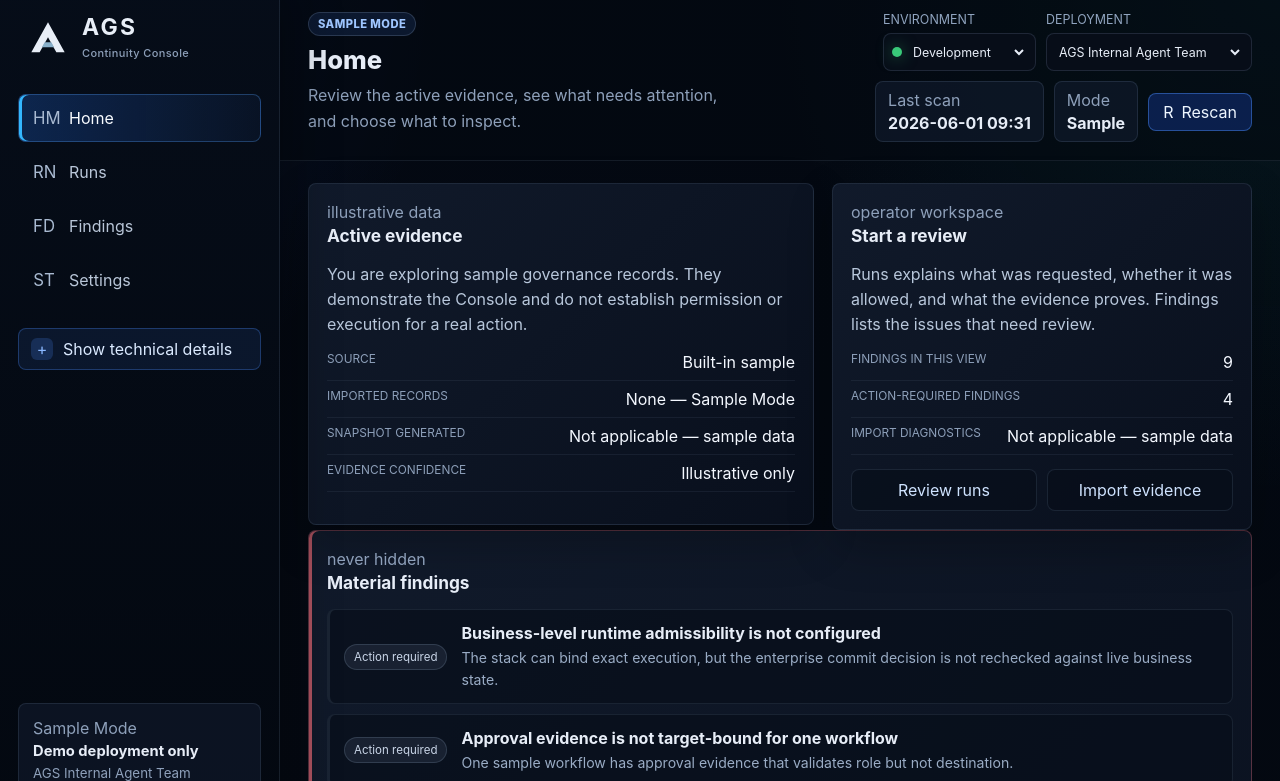
Scenario: Continuity Console operator shell › counts Priority Findings as critical plus high and opens advanced architecture from Home
Click the button "+ Show technical details".
click(140, 349)  # box [18,328,261,370]
(page scrolled)
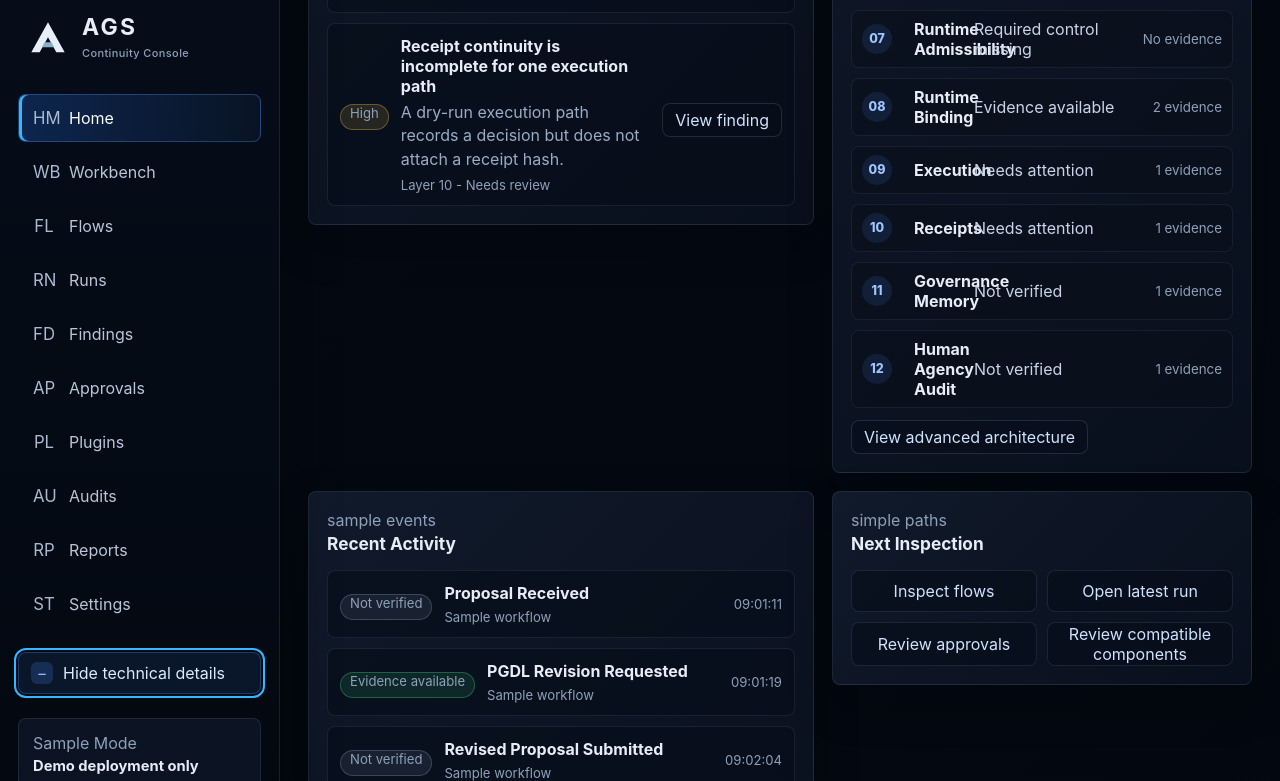
Click the button "View advanced architecture".
click(970, 437)  # box [851,420,1088,454]
(page scrolled)
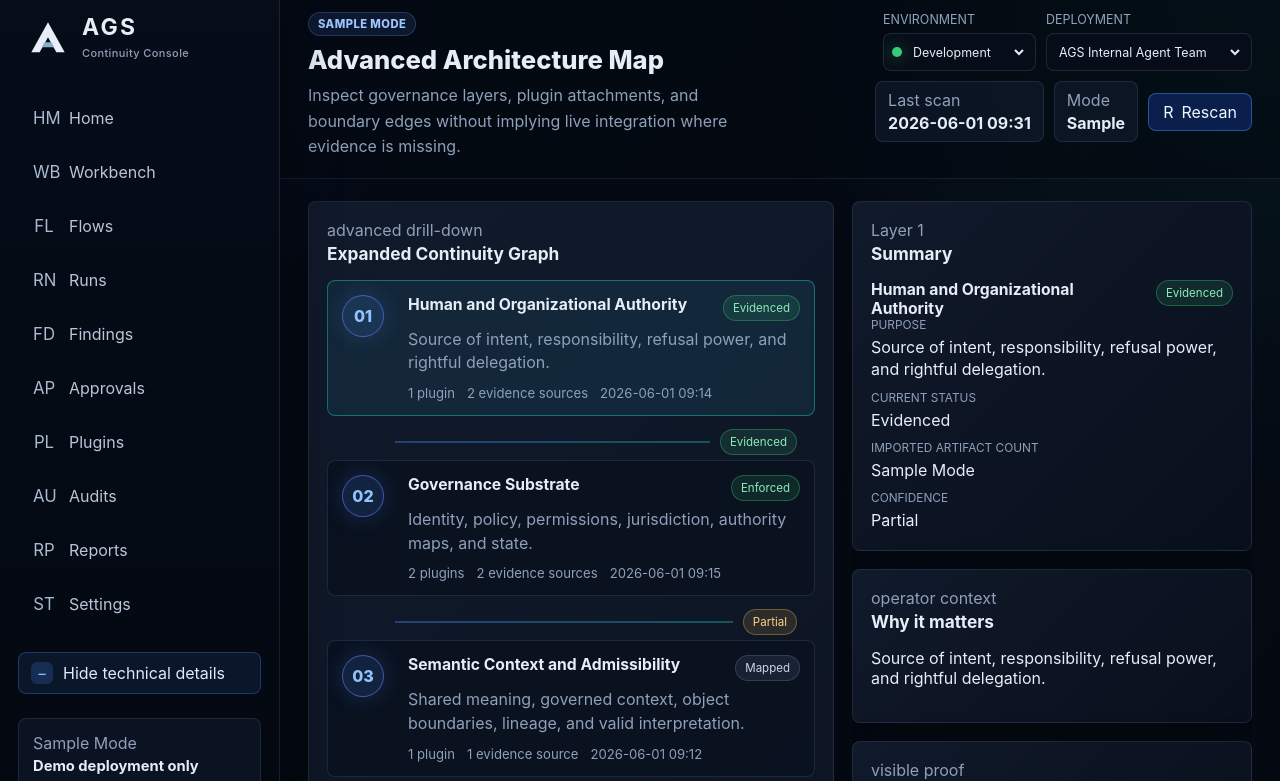
Now the heading "Advanced Architecture Map" is shown, box [308,44,664,75]
